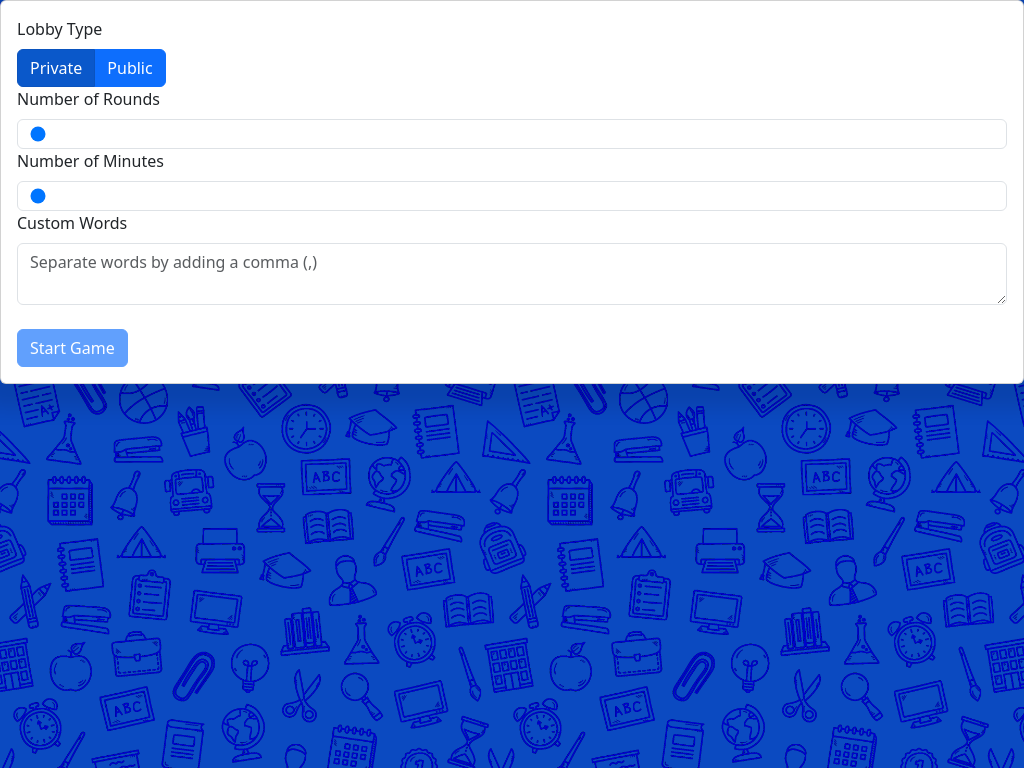
Test: testing game customisation › tooltip displayed when disabled
This screenshot has width=1024, height=768.
Step 1. Hover over the button "Start Game" → (72, 348), box [17,329,128,367]
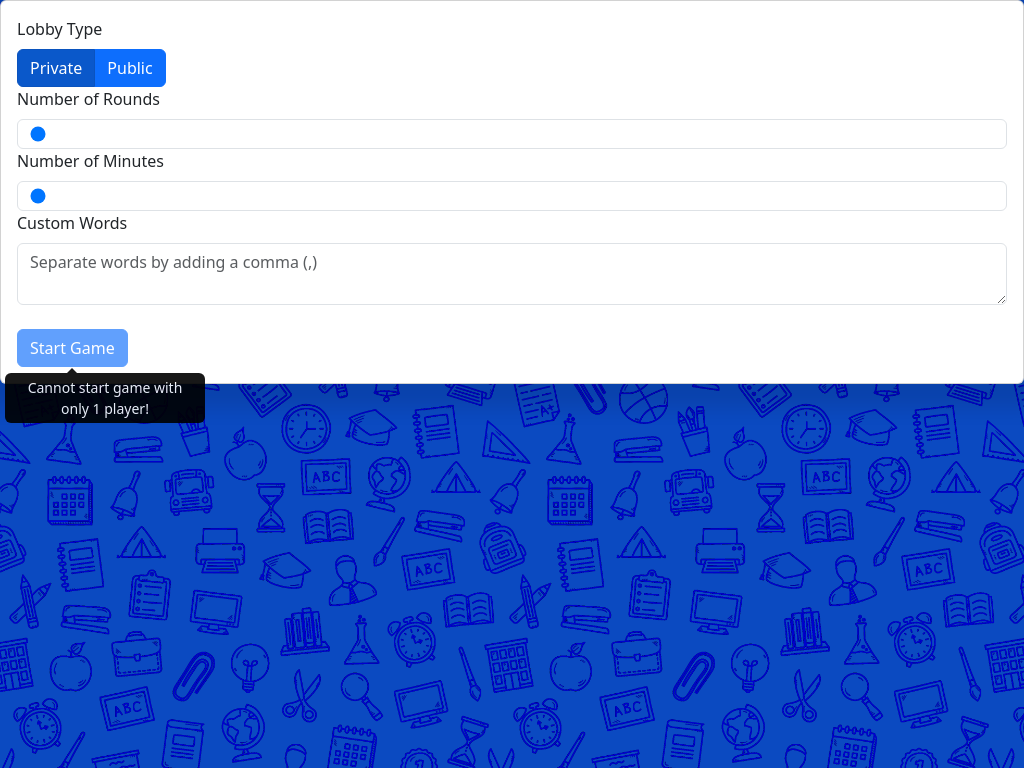
Check: the text "Cannot start game with only 1 player!" is shown, box [5,373,205,423]
